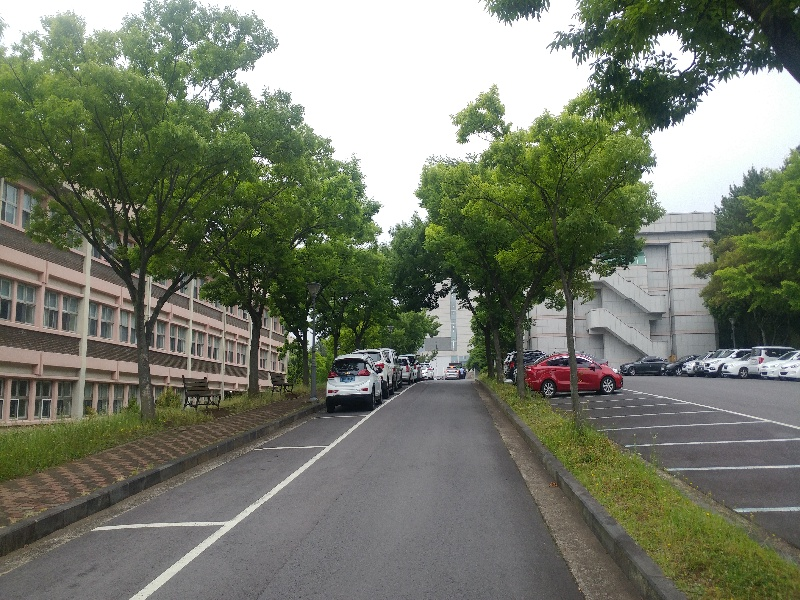College Of Education: (4, 137, 295, 401), (3, 186, 143, 397)
Engineering College Building 4: (427, 277, 483, 358)
Information Telecommunication Center: (528, 204, 716, 353), (634, 215, 711, 352)
